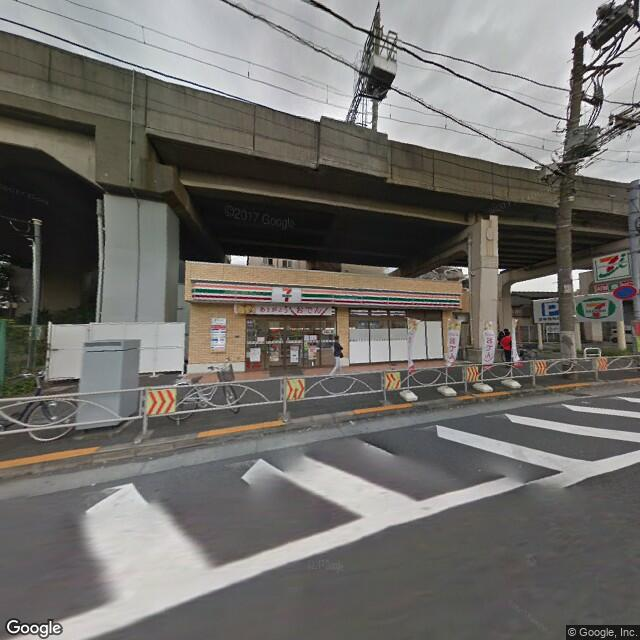7-eleven: (189, 281, 462, 312), (594, 248, 633, 284), (582, 298, 609, 322)
